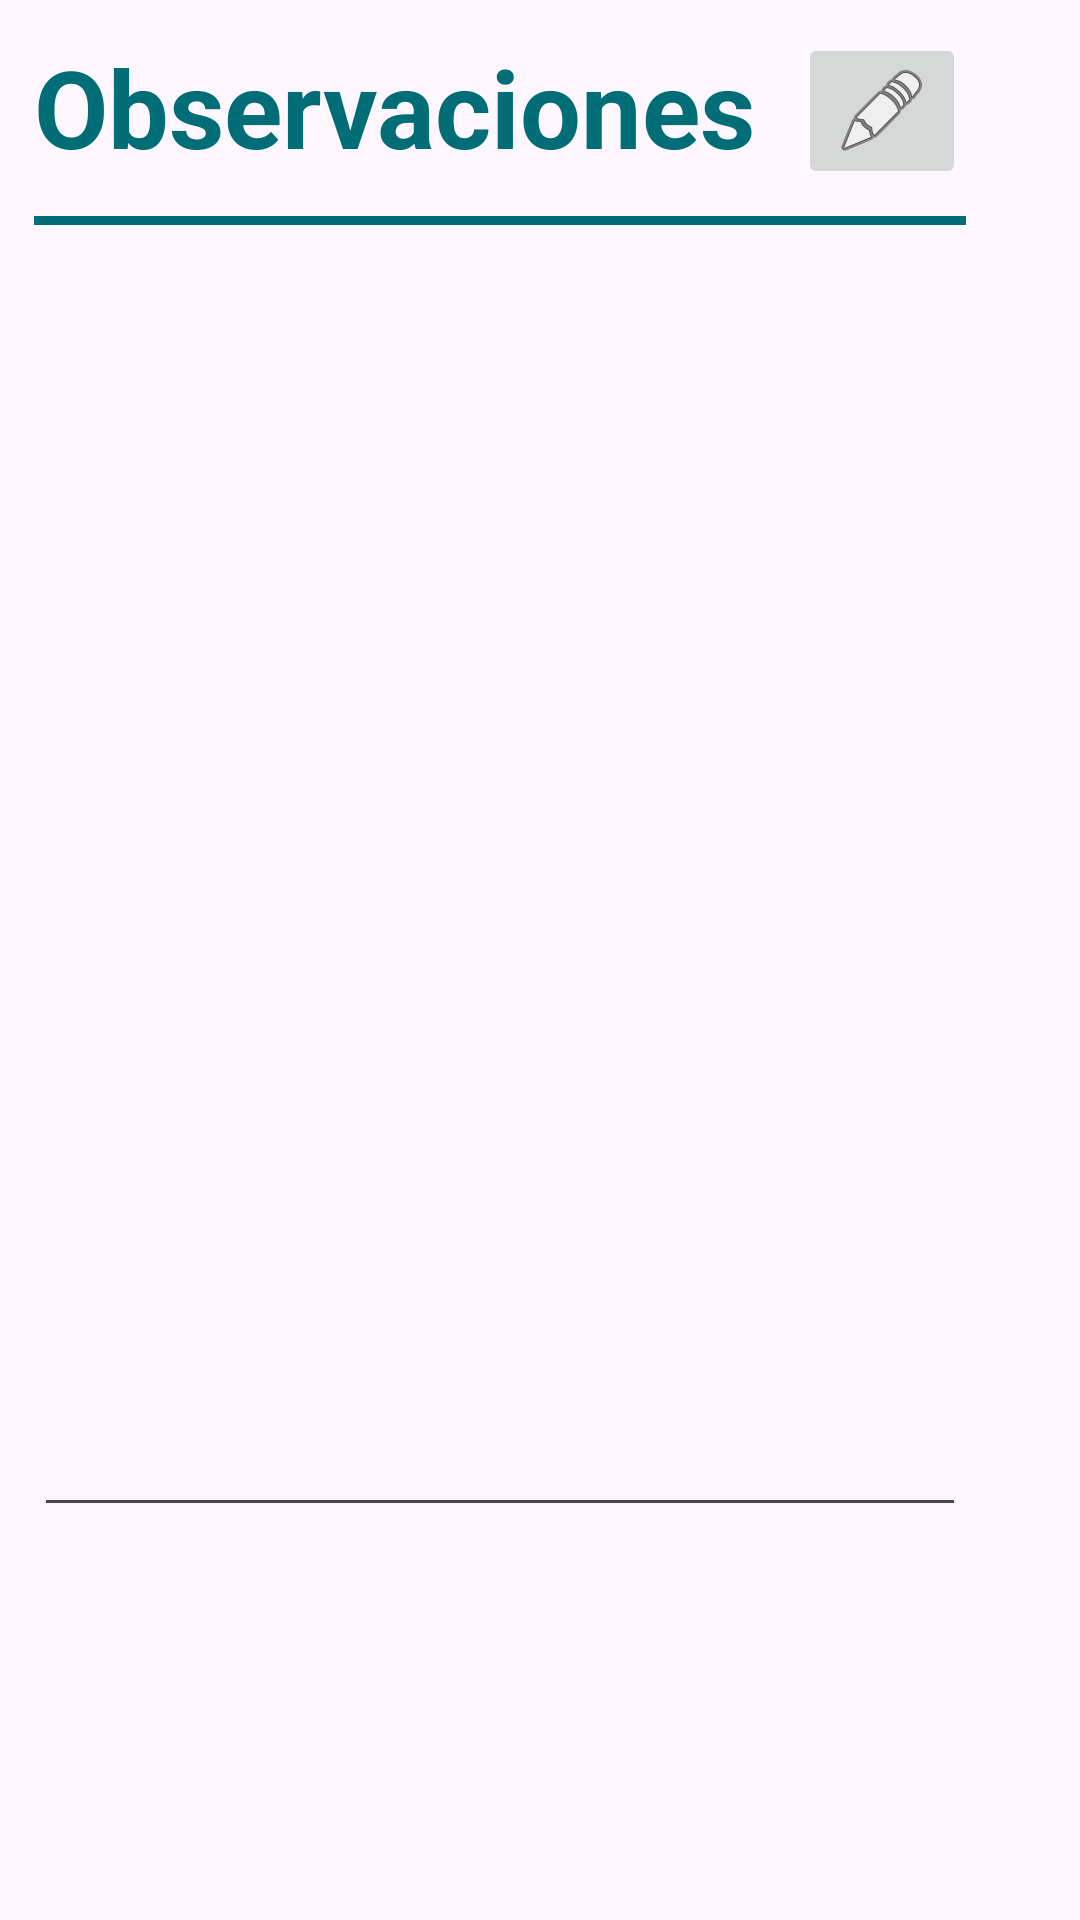

Point at icon controls on the screen. Image size 1080 × 1920, points as (x,y).
edit: (882,111)
